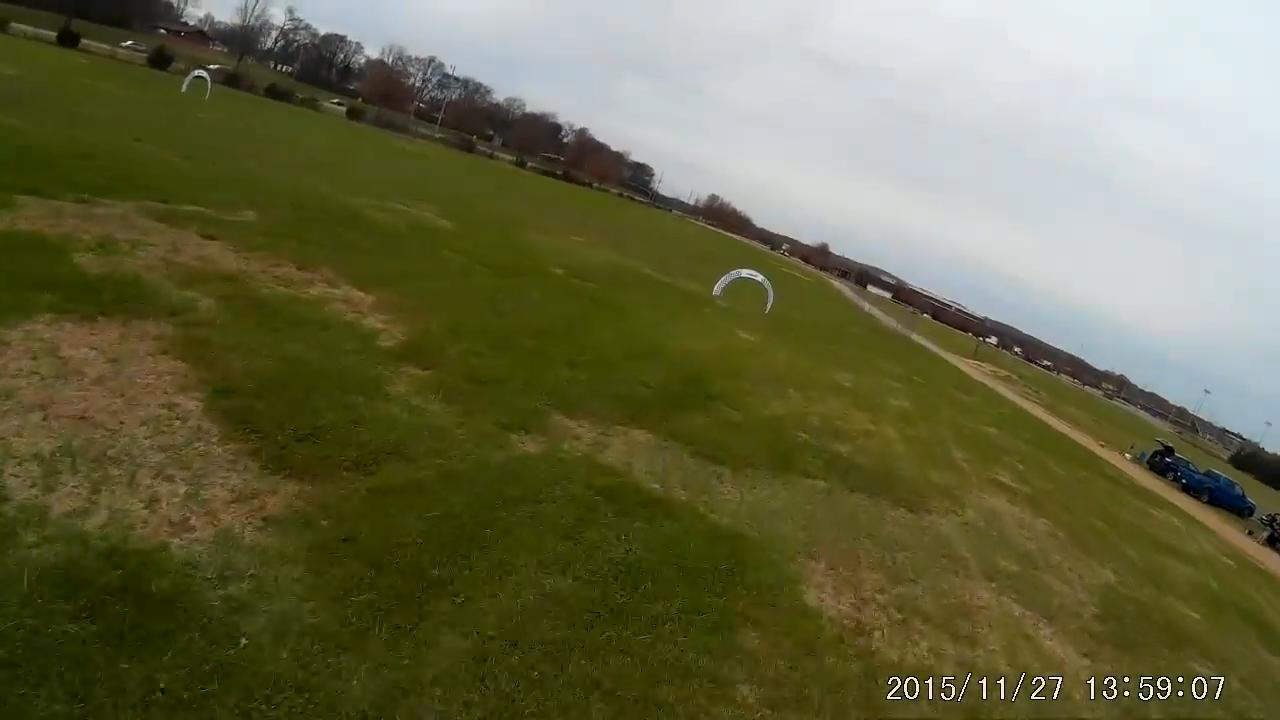gate: (710, 267, 776, 315)
